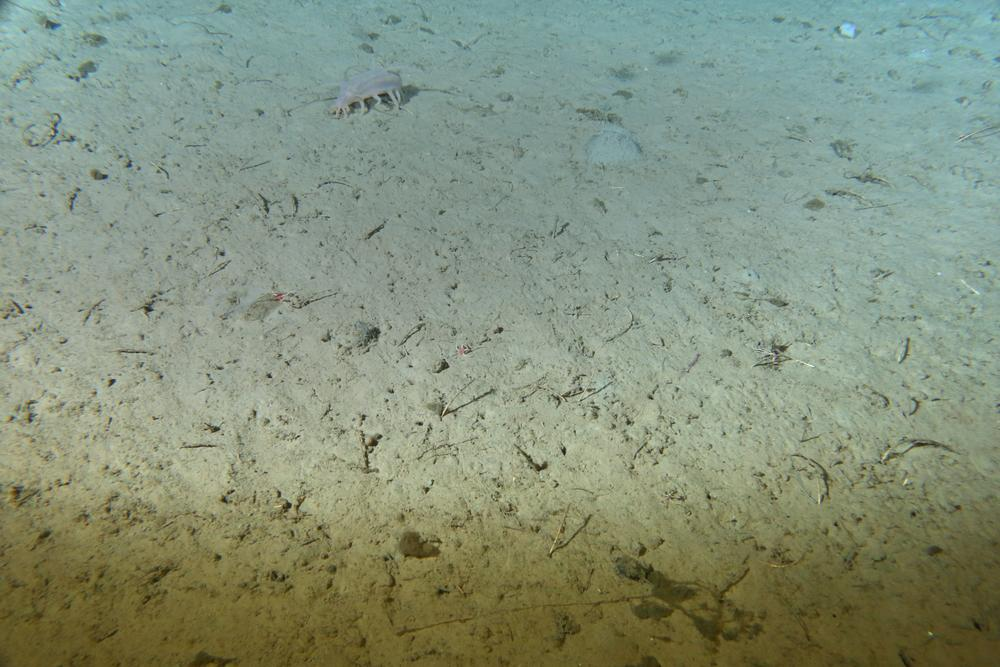Scotoplanes globosa: (318, 65, 409, 121)
